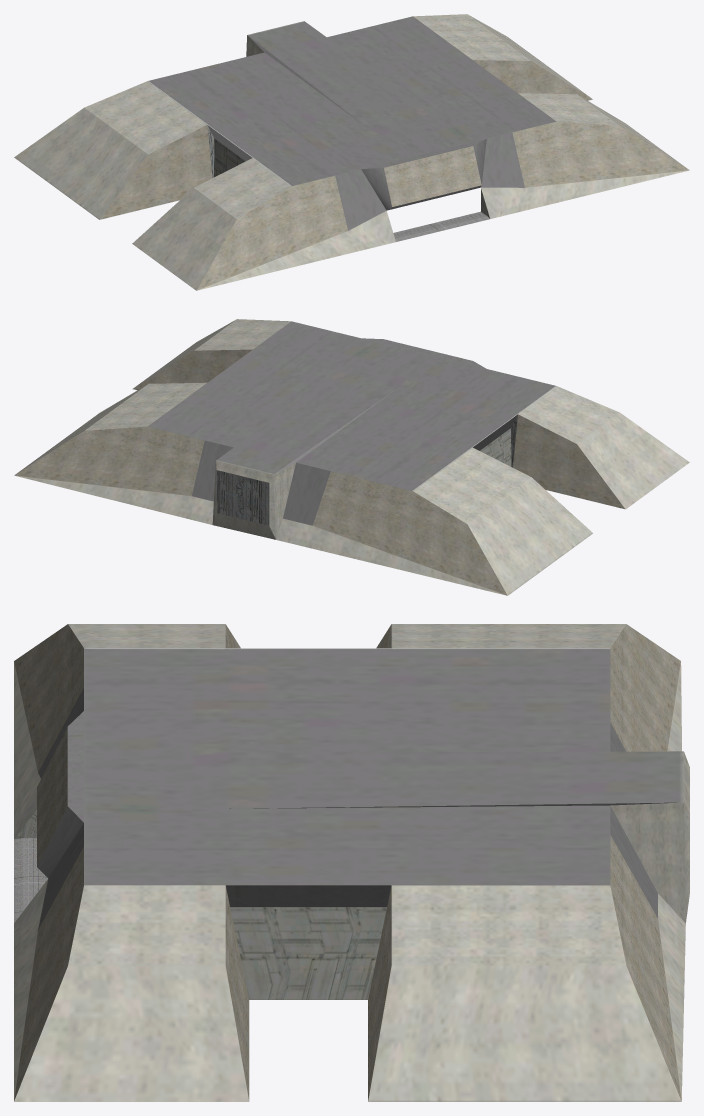
File: mun_all_cloning_s01_r0_mesh_l3.fbx
3 renders of one model, top to bottom at view 1: azimuth 30°, elevation 25°; view 2: azimuth 150°, elevation 25°; view 3: azimuth 270°, elevation 25°, orthographic. The views are drawn at different scales.
Parts seen in each view (by area): view 1: mesh_node; view 2: mesh_node; view 3: mesh_node.
Boxes of the visible parts, bbox=[...] form: mesh_node: bbox=[14, 14, 689, 290]; mesh_node: bbox=[14, 319, 689, 595]; mesh_node: bbox=[14, 624, 689, 1101].
Bounding box in the file's own units: 62.92 × 7.89 × 40.77.
Materials: 1 (1 with a texture image).
